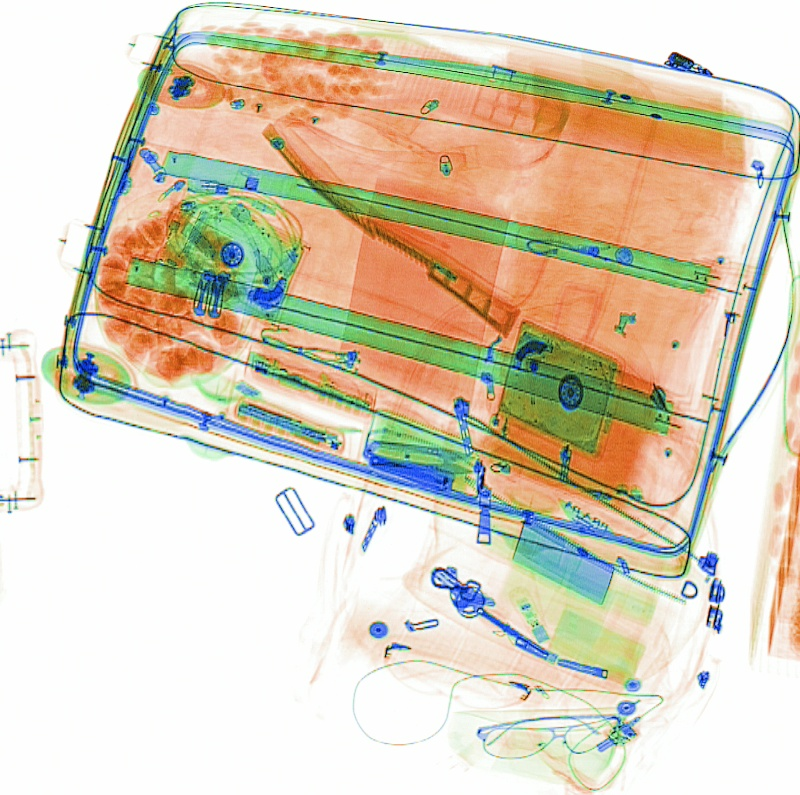scissors: (354, 434, 478, 477)
